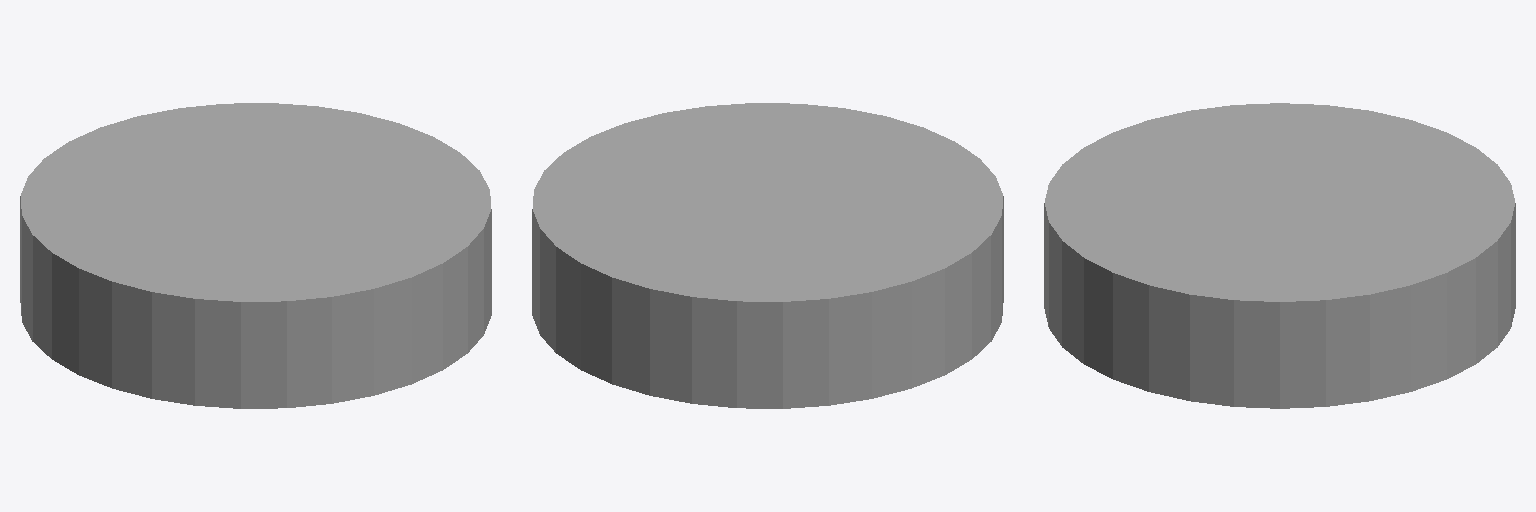
The robot description file, URDF, robot "box":
<?xml version="1.0" ?>
<robot name="box" xmlns:xacro="http://www.ros.org/wiki/xacro">
  <material name="yellow">
    <color rgba="1 1 0 0.5"/>
  </material>  
  <material name="red">
    <color rgba="0.7 0.7 0.7 0.5"/>
  </material>    
  <link name="world"/>
	<link name="box_link">
		<inertial>
			<origin rpy="0 0 0" xyz="0 0 0"/>
			<mass value="0" />
			<inertia ixx="0.0" iyy="0.0" izz="0.0" ixy="0" iyz="0" ixz="0"/>
		</inertial>
		<visual>
			<origin rpy="0 0 0.0" xyz="0 0 0"/>
			<geometry>
				<cylinder radius="0.1" length="0.001"/>
			</geometry>
		<material name="yellow"/>
		</visual>
		<collision>
			<origin rpy="0 0 0.0" xyz="0 0 0"/>
			<geometry>
				<cylinder radius="0.1" length="0.001"/>
			</geometry>
		</collision>
	</link>
	<link name="sensor_link">
		<inertial>
			<origin rpy="0 0 0" xyz="0 0 0"/>
			<mass value="1" />
			<inertia ixx="0.0" iyy="0.0" izz="0.0" ixy="0" iyz="0" ixz="0"/>
		</inertial>
		<visual>
			<origin rpy="0 0 0" xyz="0 0 0.125"/>
			<geometry>
				<cylinder radius="0.5" length="0.25"/>
			</geometry>
		<material name="red"/>
		</visual>
		<collision>
			<origin rpy="0 0 0" xyz="0 0 0.125"/>
			<geometry>
				<cylinder radius="0.5" length="0.25"/>
			</geometry>
		</collision>
	</link>	
<joint name="world_joint" type="fixed">
    <parent link="world"/>
    <child link="box_link"/>
    <origin rpy="0 0 0" xyz="0 0 0.0"/>
  </joint>

  <joint name="sensor_joint" type="floating">
    <parent link="box_link"/>
    <child link="sensor_link"/>
    <origin rpy="0 0 0" xyz="0 0 0.000"/>
  </joint>
</robot>

--- What the picture shows (computed from the rendered views, not written in the file) ---
Views: 3 orthographic renders of the robot side by side, from view 1: azimuth 30°, elevation 25°; view 2: azimuth 150°, elevation 25°; view 3: azimuth 270°, elevation 25°.
Model box with 3 links and 2 joints (1 fixed, 1 floating), rooted at world, posed every joint at zero.
Links seen in each view (by area): view 1: sensor_link; view 2: sensor_link; view 3: sensor_link.
Boxes of the visible links, box(x1,y1,x2,y2) form: sensor_link: box(20, 103, 491, 408); sensor_link: box(532, 103, 1003, 408); sensor_link: box(1044, 103, 1515, 408).
Size in the robot's own frame: 1 by 1 by 0.2505 metres.
Geometry: primitives only (box / cylinder / sphere), no mesh files.